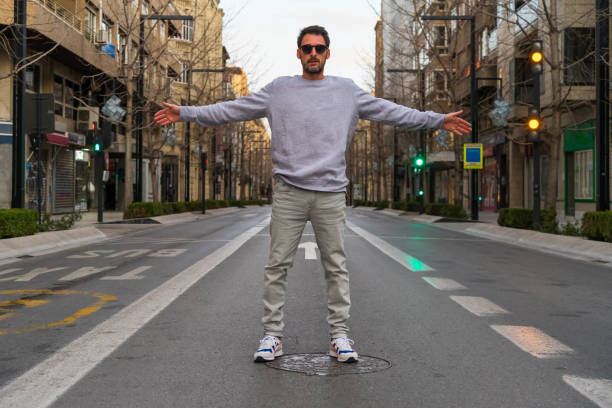yaya: (147, 29, 449, 389)
